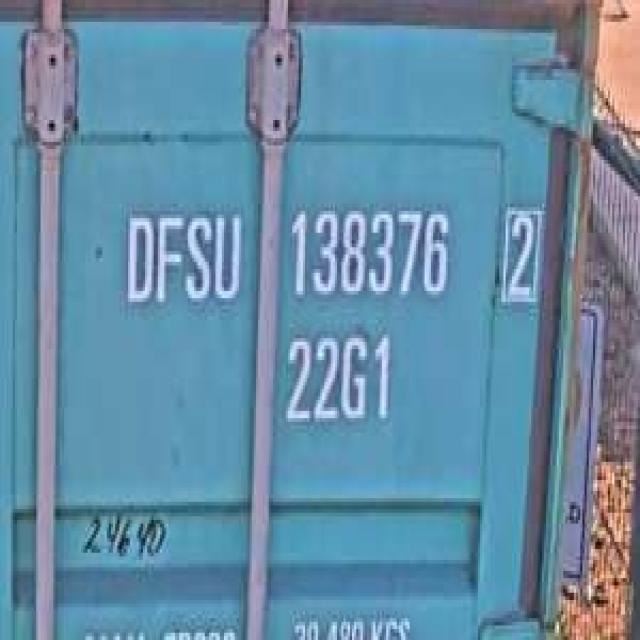dv: (497, 196, 544, 309)
owner: (117, 196, 245, 313)
serial: (282, 196, 454, 309)
size: (279, 324, 397, 436)
